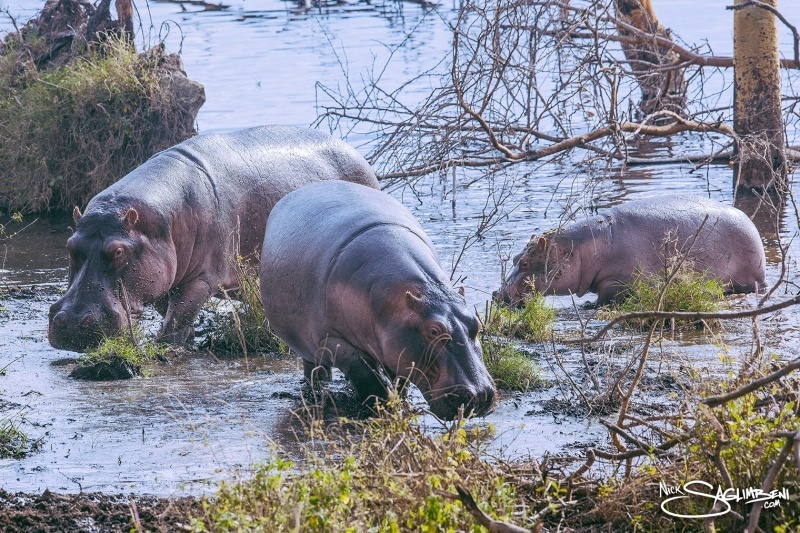hipopotamo: (42, 116, 298, 368), (258, 175, 499, 431), (486, 191, 787, 330)
